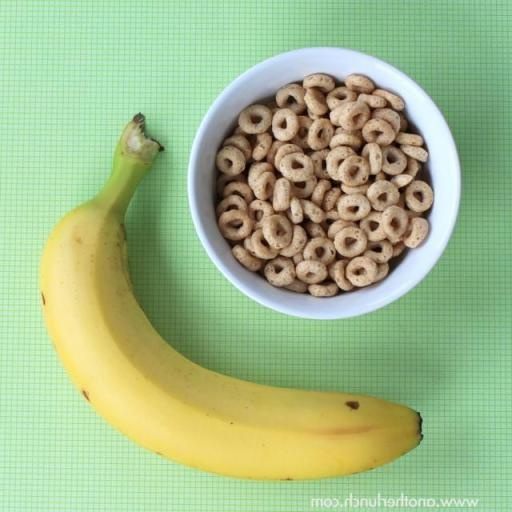fruit: (40, 115, 420, 479)
